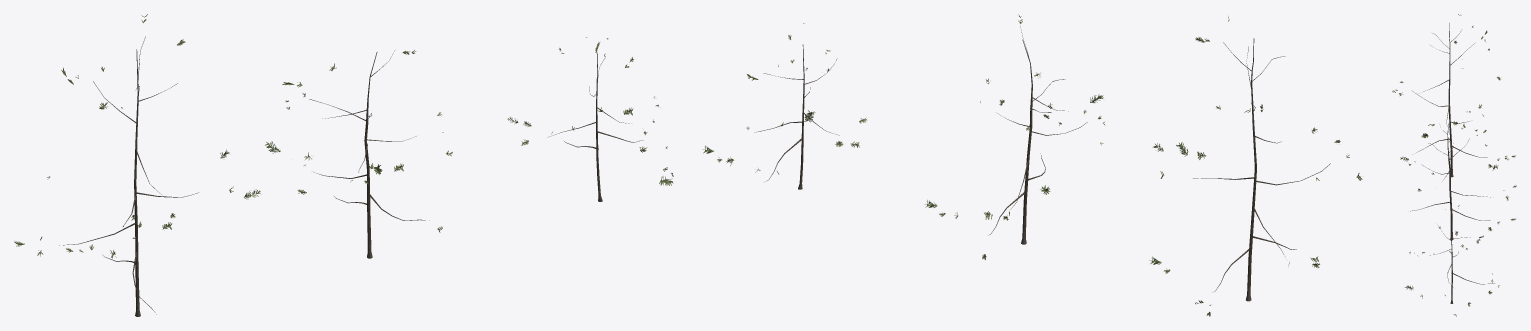
File: fir_sapling.glb
3 views of the same model, side by side, from view 1: azimuth 30°, elevation 25°; view 2: azimuth 150°, elevation 25°; view 3: azimuth 270°, elevation 25° (orthographic). The views are drawn at different scales.
Parts seen in each view (by area): view 1: fir_sapling_a, fir_sapling_b, fir_sapling_c; view 2: fir_sapling_a, fir_sapling_b, fir_sapling_c; view 3: fir_sapling_a, fir_sapling_b, fir_sapling_c.
Boxes of the visible parts, left/top/right/bottom form: fir_sapling_a: left=14, top=14, right=260, bottom=316; fir_sapling_b: left=265, top=50, right=452, bottom=258; fir_sapling_c: left=507, top=37, right=673, bottom=201; fir_sapling_a: left=1149, top=16, right=1362, bottom=316; fir_sapling_b: left=924, top=14, right=1105, bottom=259; fir_sapling_c: left=702, top=23, right=867, bottom=189; fir_sapling_a: left=1392, top=14, right=1515, bottom=177; fir_sapling_b: left=1400, top=123, right=1516, bottom=253; fir_sapling_c: left=1404, top=205, right=1499, bottom=316.
Size of the model in its own units: 2.74 by 1.22 by 0.8264.
Materials: 2 (2 with a texture image).
